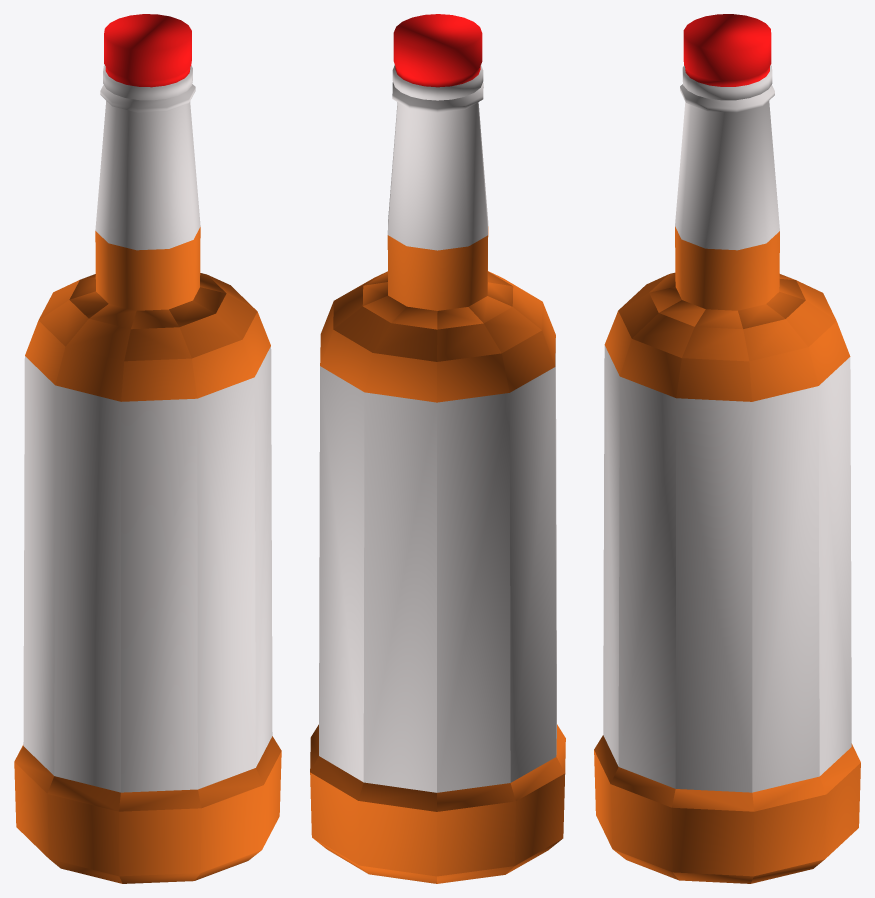
File: Wine 12.fbx
3 views of the same model, side by side, from view 1: azimuth 30°, elevation 25°; view 2: azimuth 150°, elevation 25°; view 3: azimuth 270°, elevation 25° (orthographic).
Visible parts, largest first — view 1: Node 0; view 2: Node 0; view 3: Node 0.
Part boxes in pixels (x1=…): Node 0: x1=14, y1=14, x2=281, y2=883; Node 0: x1=310, y1=14, x2=565, y2=883; Node 0: x1=594, y1=14, x2=860, y2=883.
Size of the model in its own units: 0.0669 by 0.2221 by 0.066.
